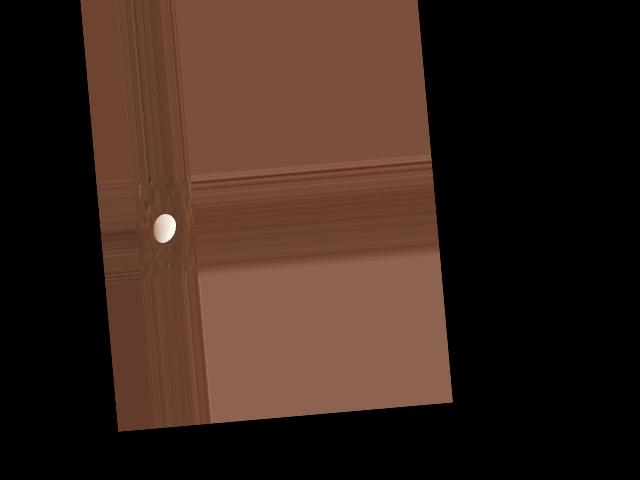egg: (152, 213, 177, 244)
